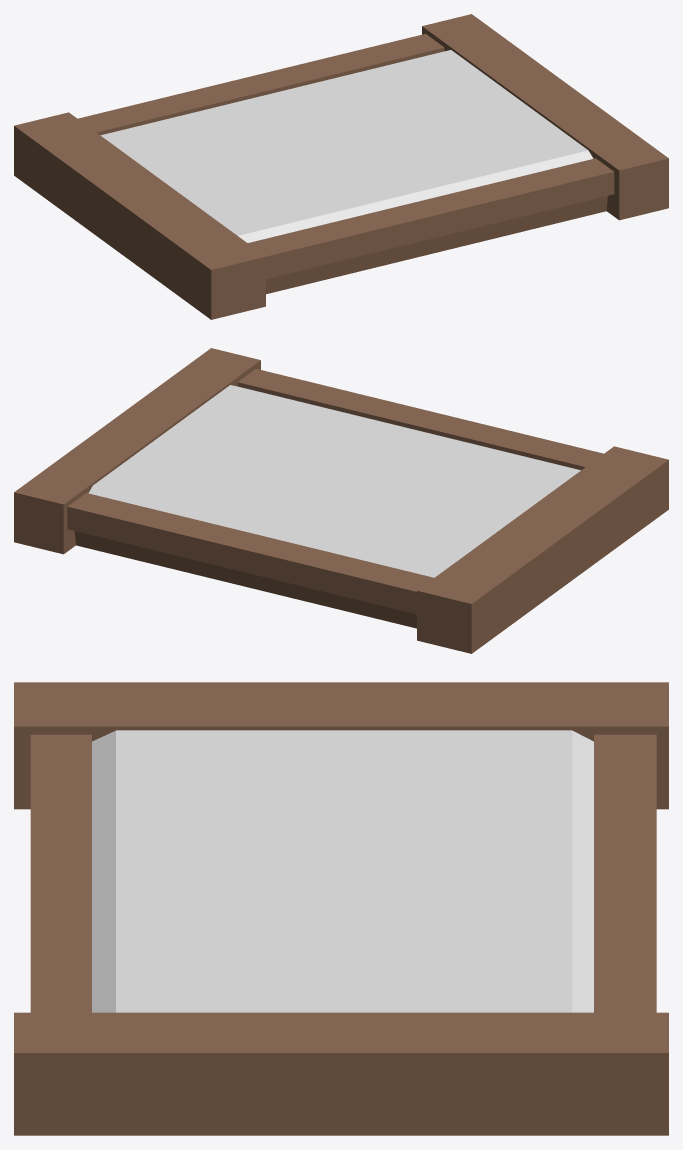
File: SM_PickupOrderArea.fbx
3 renders of one model, top to bottom at view 1: azimuth 30°, elevation 25°; view 2: azimuth 150°, elevation 25°; view 3: azimuth 270°, elevation 25°, orthographic. The views are drawn at different scales.
Parts seen in each view (by area): view 1: food delivery; view 2: food delivery; view 3: food delivery.
Boxes of the visible parts, x1,y1,x2,y2 form: food delivery: (14,14,668,319); food delivery: (14,348,668,653); food delivery: (14,682,668,1135).
Size of the model in its own units: 202 by 21.07 by 151.
